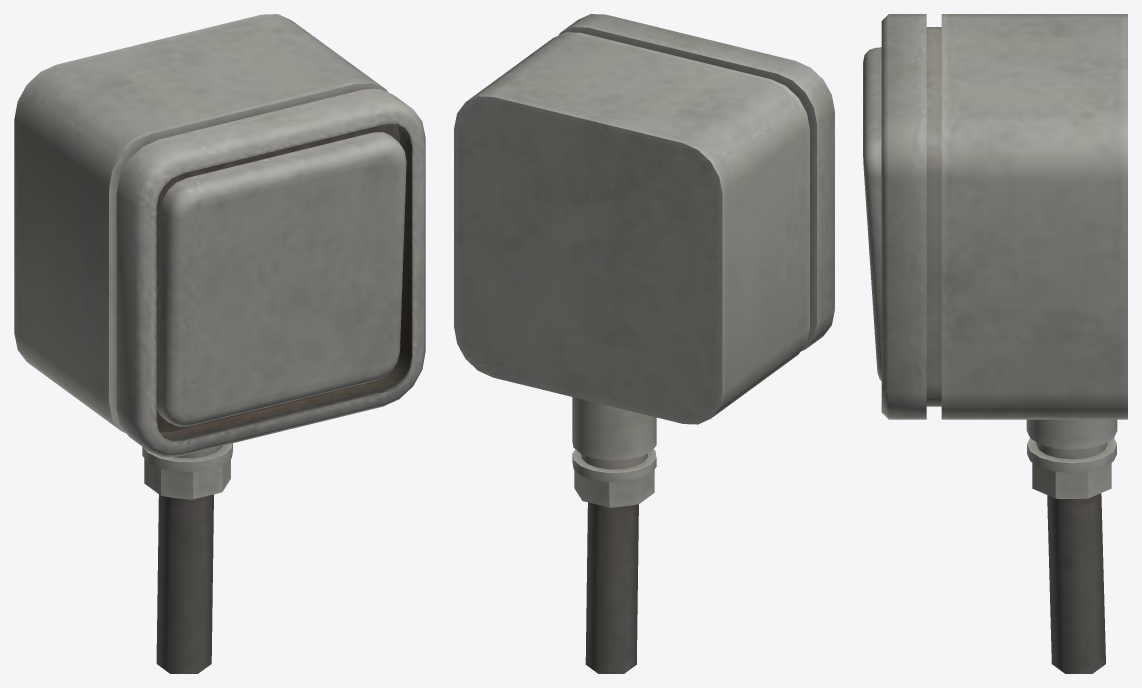
File: cable_lightswitch.gltf
3 renders of one model, left to right at view 1: azimuth 30°, elevation 25°; view 2: azimuth 150°, elevation 25°; view 3: azimuth 270°, elevation 25°, orthographic. The views are drawn at different scales.
Parts seen in each view (by area): view 1: cable_lightswitch; view 2: cable_lightswitch; view 3: cable_lightswitch.
Boxes of the visible parts, left/top/right/bottom form: cable_lightswitch: left=14, top=14, right=425, bottom=673; cable_lightswitch: left=454, top=14, right=834, bottom=673; cable_lightswitch: left=863, top=14, right=1127, bottom=673.
Bounding box in the file's own units: 0.068 × 0.1359 × 0.0547.
Materials: 1 (1 with a texture image).
